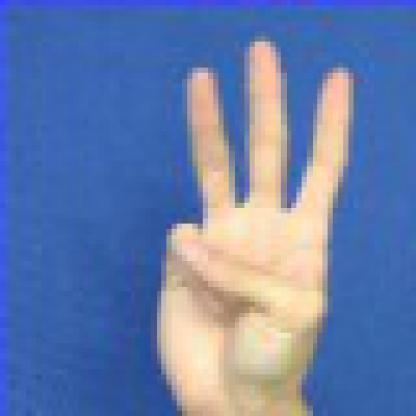three: (120, 22, 369, 415)
